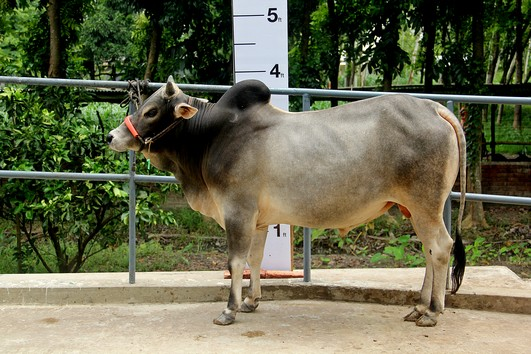cow: (98, 63, 473, 329)
